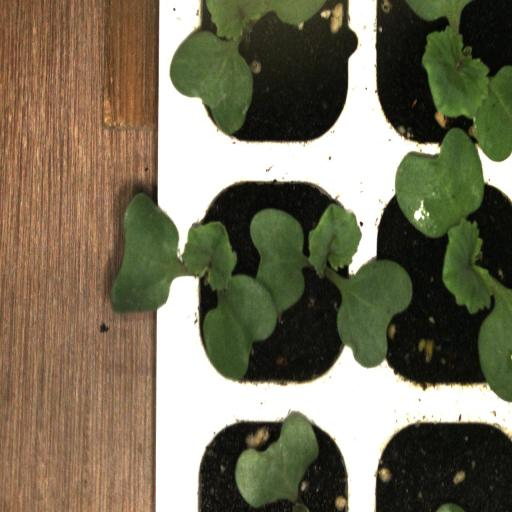seedling: (365, 160, 512, 402), (361, 0, 512, 161)
twoseedling: (184, 163, 364, 402)
